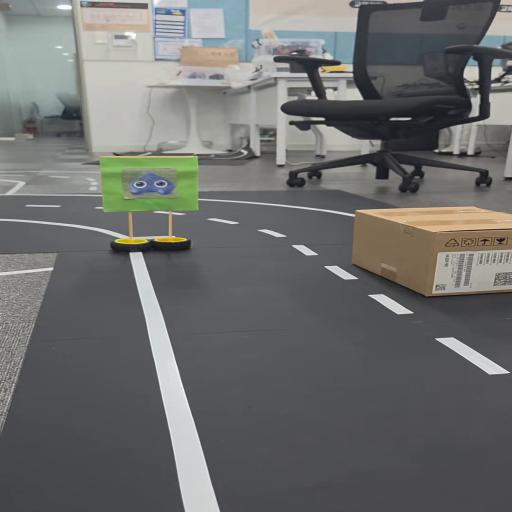Box: (354, 198, 512, 298)
Sign_B: (98, 150, 207, 263)
